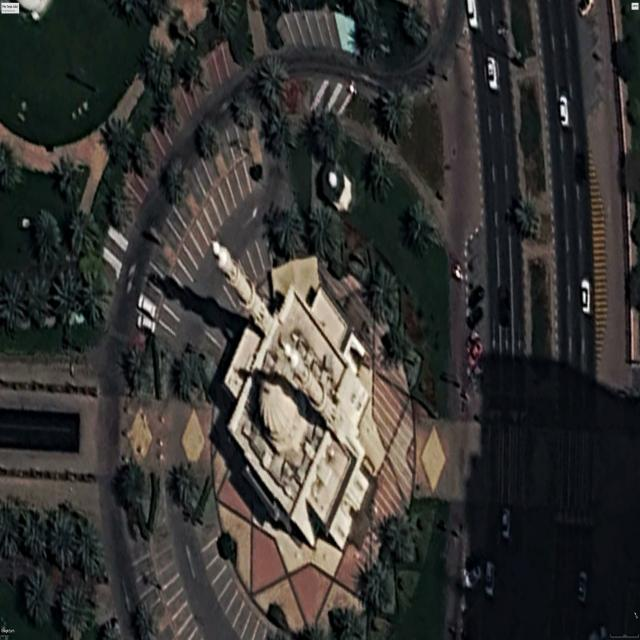mosque: (212, 242, 384, 550)
